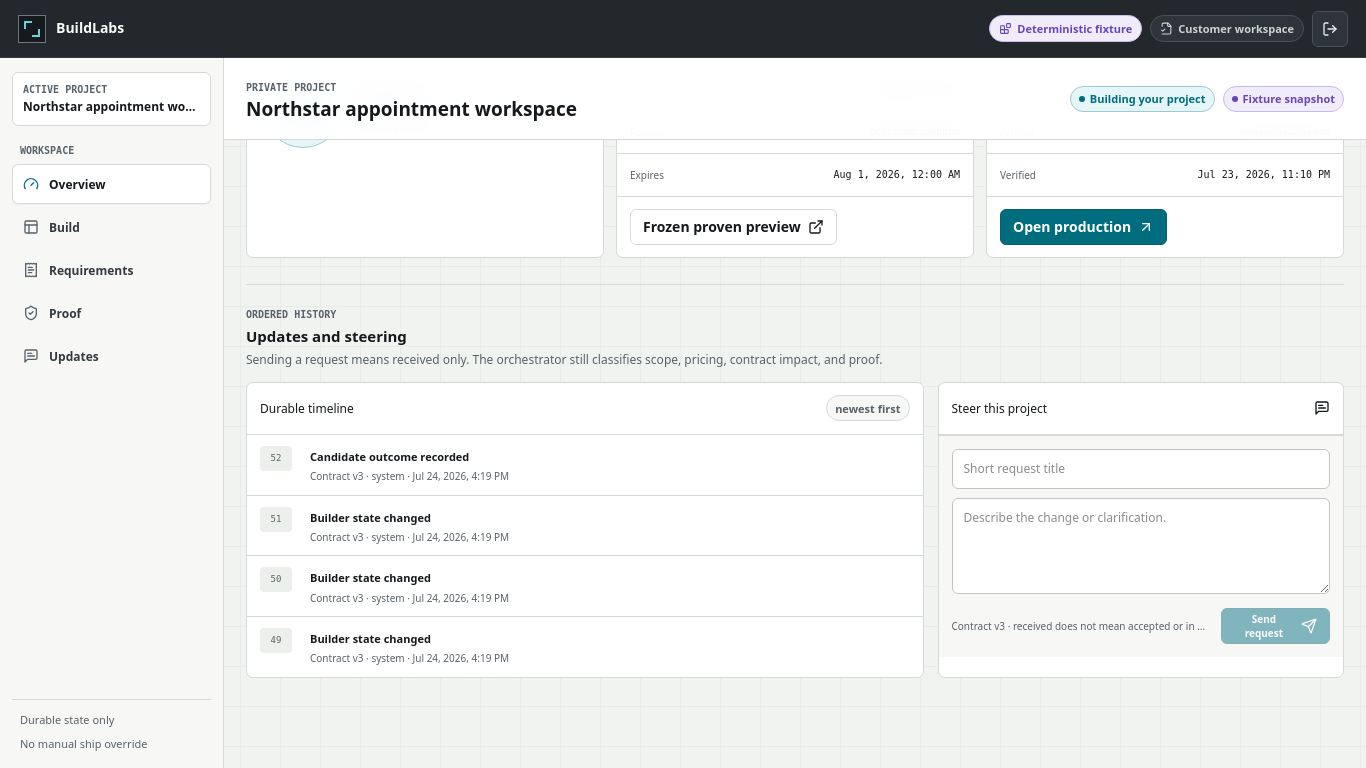
Test: customer workspace UI truth boundaries › reports steering as received only after the authenticated route responds
(page scrolled)
Type "Clarify the scheduling queue" into the field with placeholder "Short request title" at (1141, 469), box top-left (952, 449), bottom-right (1330, 489)
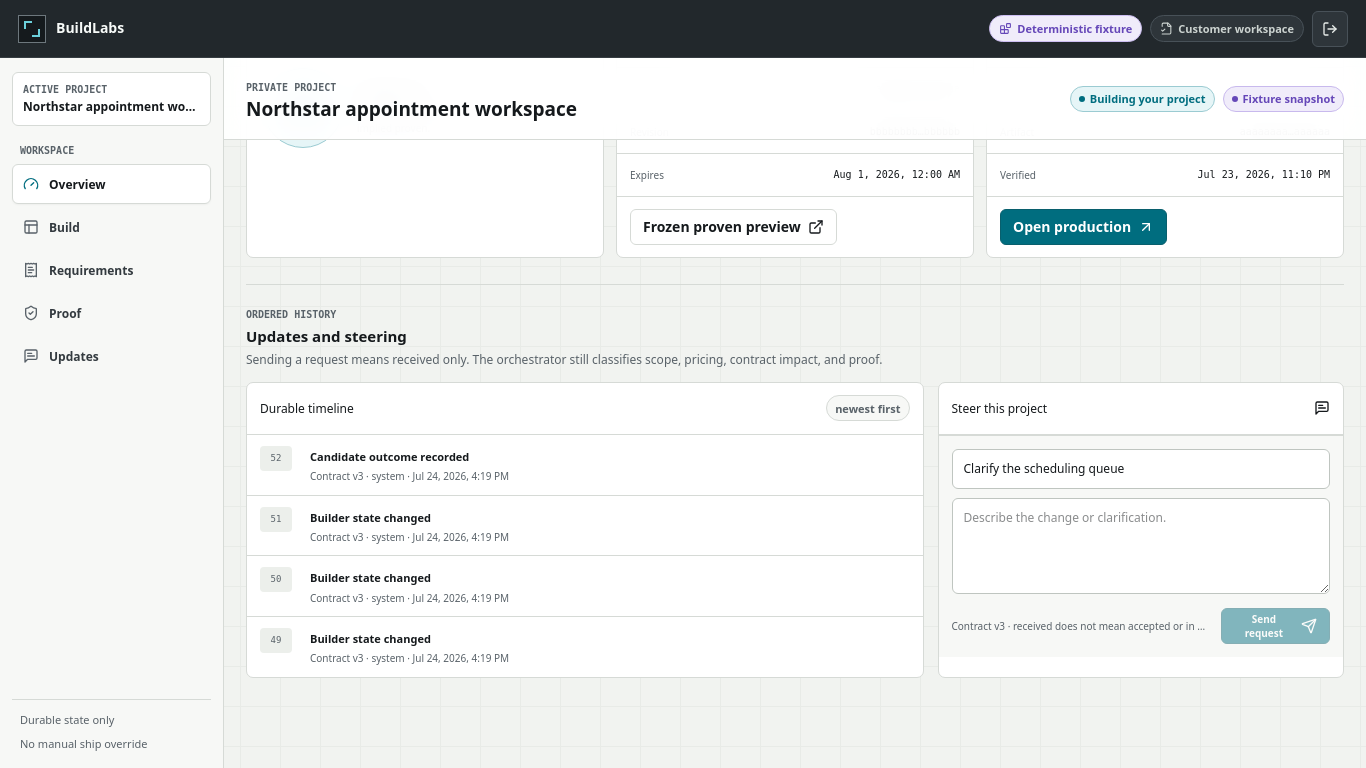
Type "Please keep the current version and clarify the expected queue ordering." into the text box with placeholder "Describe the change or clarification." at (1141, 546), box top-left (952, 498), bottom-right (1330, 594)
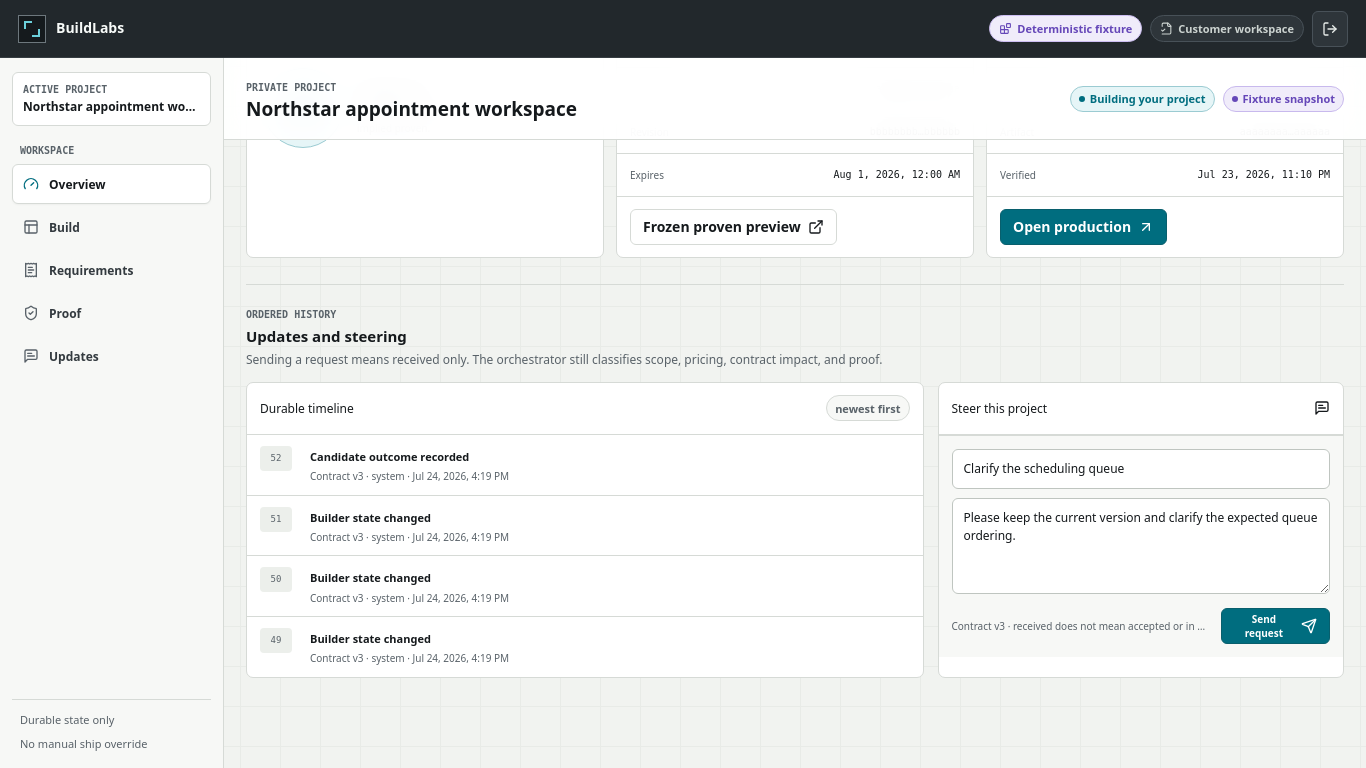
Click the button "Send request" at (1275, 626), box top-left (1221, 608), bottom-right (1330, 644)
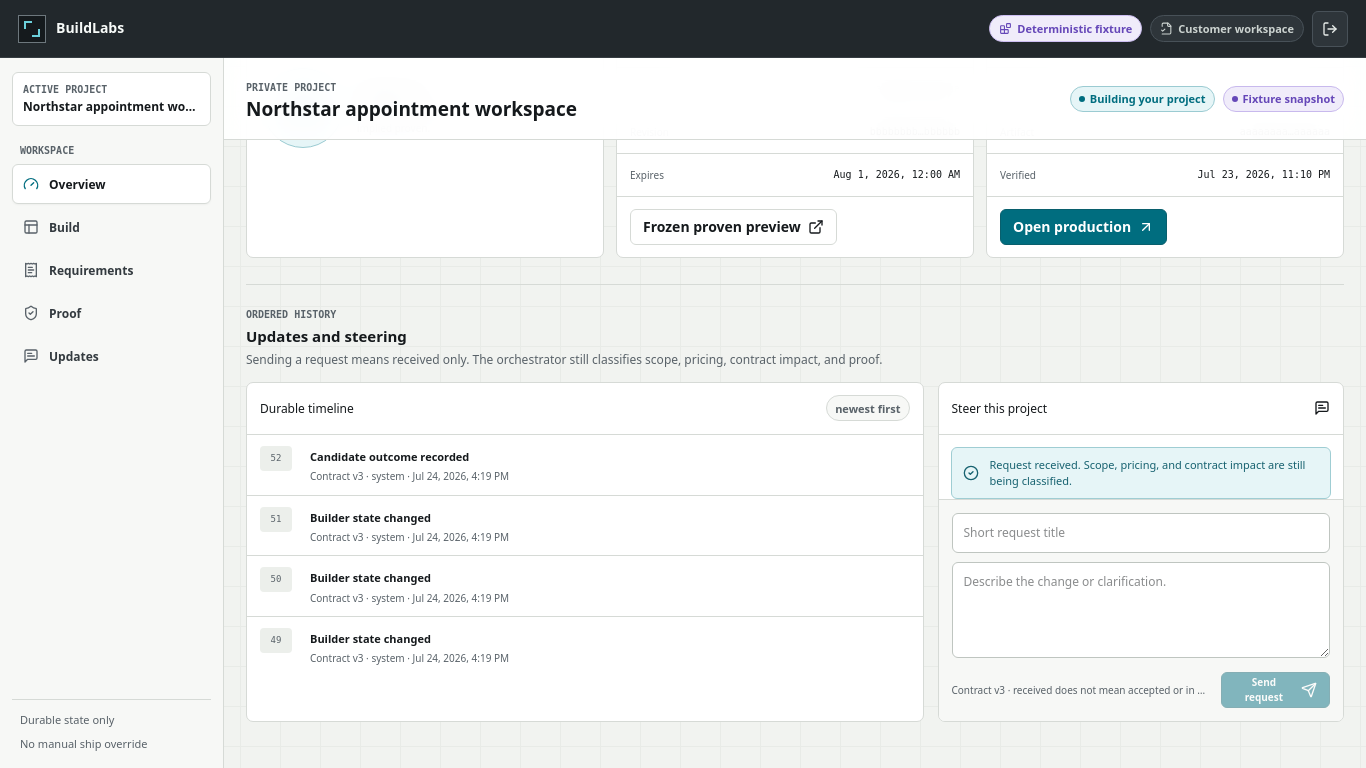
Expected: the text "Contract v3 · received does not mean accepted or in scope" is shown, top-left (952, 683), bottom-right (1209, 697)
Expected: the text "Request received. Scope, pricing, and contract impact are still being classified." is shown, top-left (990, 457), bottom-right (1305, 488)
